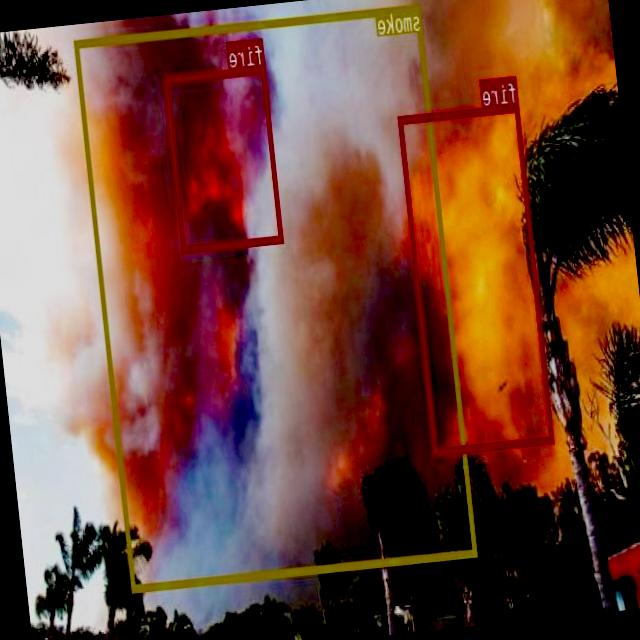fire: (398, 102, 555, 454), (164, 65, 284, 251)
smoke: (75, 2, 478, 590)
